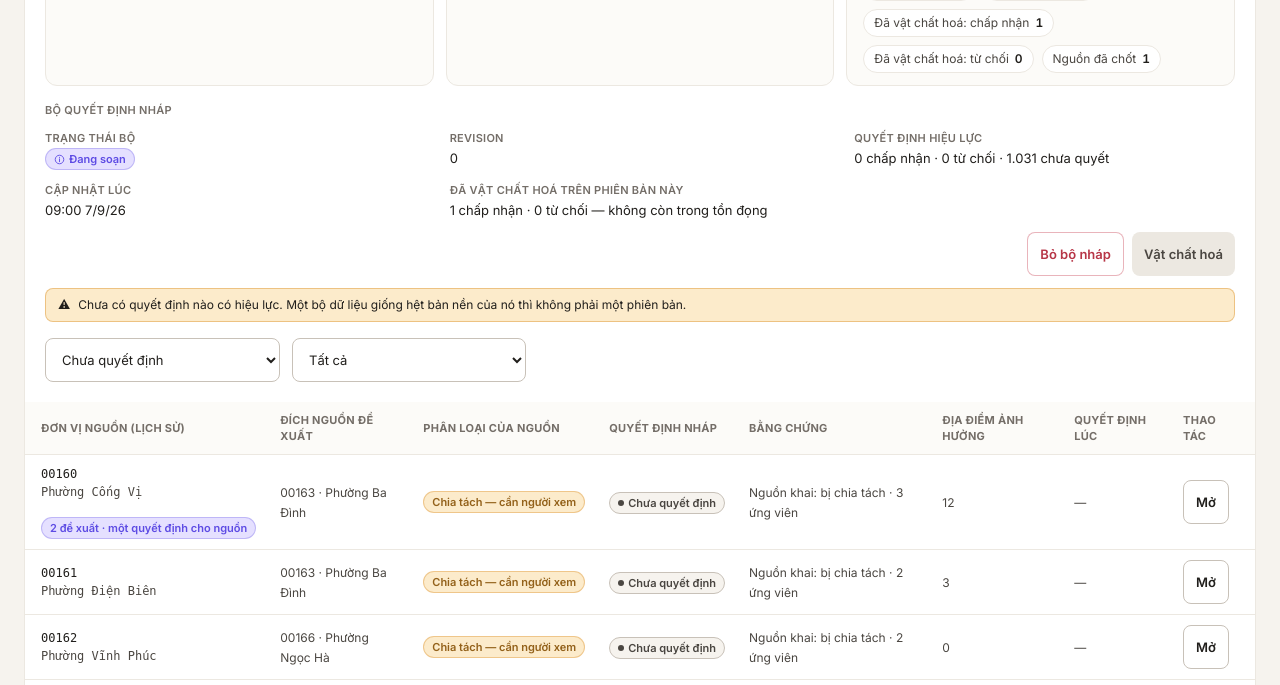
Test: the queue list › pages on the server cursor and drops it when a filter changes
This screenshot has width=1280, height=685.
(page scrolled)
Select "Chia tách — cần người xem" in the dropdown named "Phân loại". click: (409, 360)
box: 292,338 -> 526,382
(page scrolled)
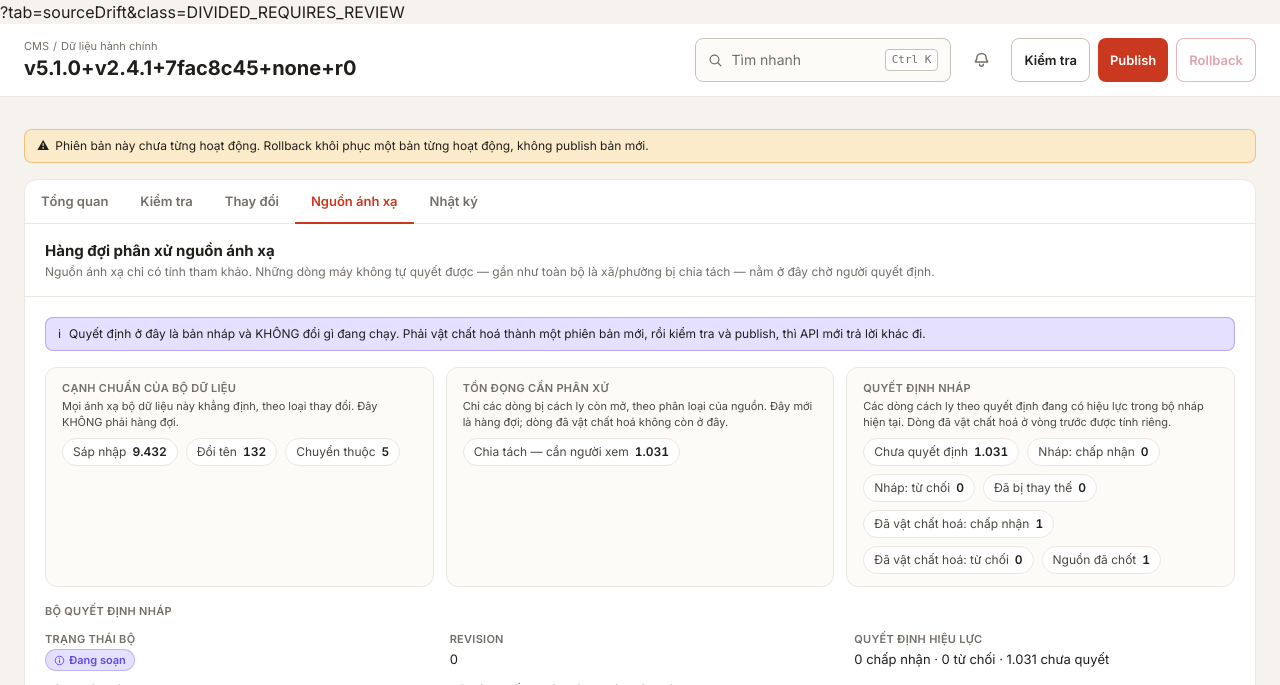
Expected: the text with test id "search" shows "class=DIVIDED_REQUIRES_REVIEW", 0,2 -> 405,22
